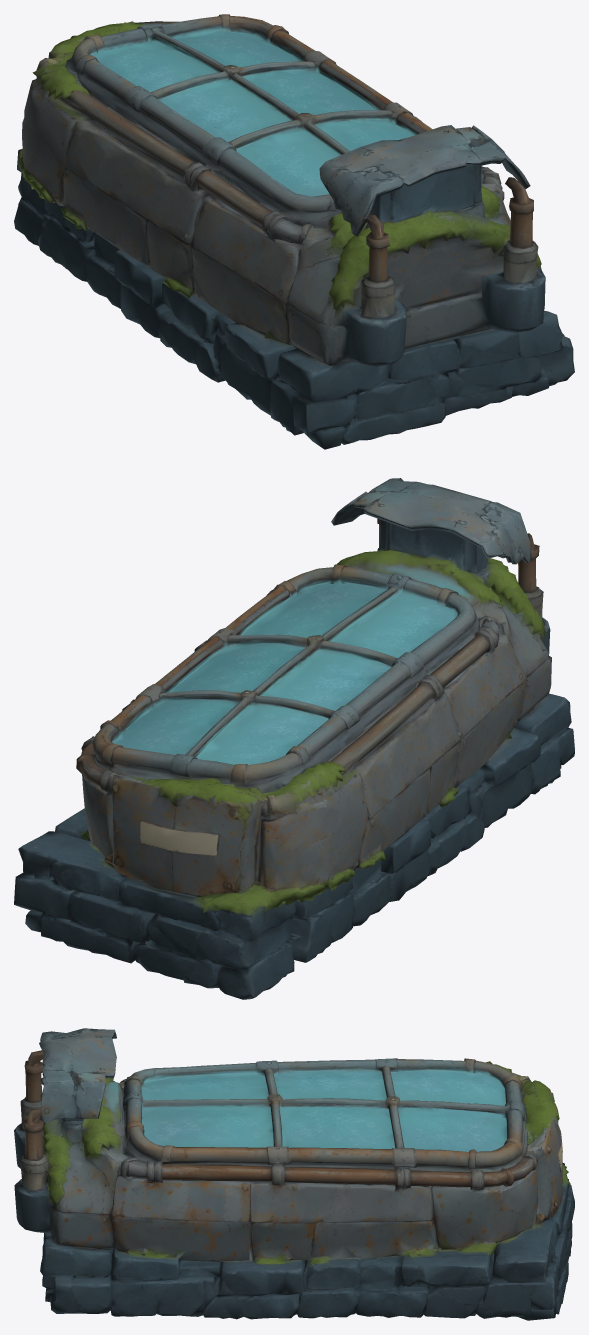
The model's file is pod-p4-flat.glb.
3 views of the same model, one above another, from view 1: azimuth 30°, elevation 25°; view 2: azimuth 150°, elevation 25°; view 3: azimuth 270°, elevation 25° (orthographic). The views are drawn at different scales.
Parts seen in each view (by area): view 1: tripo_node_5931f44c-14db-4c92-acdc-9ff4227c8e01; view 2: tripo_node_5931f44c-14db-4c92-acdc-9ff4227c8e01; view 3: tripo_node_5931f44c-14db-4c92-acdc-9ff4227c8e01.
Part boxes in pixels (x1=…): tripo_node_5931f44c-14db-4c92-acdc-9ff4227c8e01: x1=14, y1=14, x2=574, y2=449; tripo_node_5931f44c-14db-4c92-acdc-9ff4227c8e01: x1=14, y1=478, x2=574, y2=999; tripo_node_5931f44c-14db-4c92-acdc-9ff4227c8e01: x1=14, y1=1028, x2=574, y2=1320.
Size of the model in its own units: 0.6855 by 0.6 by 1.36.
1 material, 1 textured.
